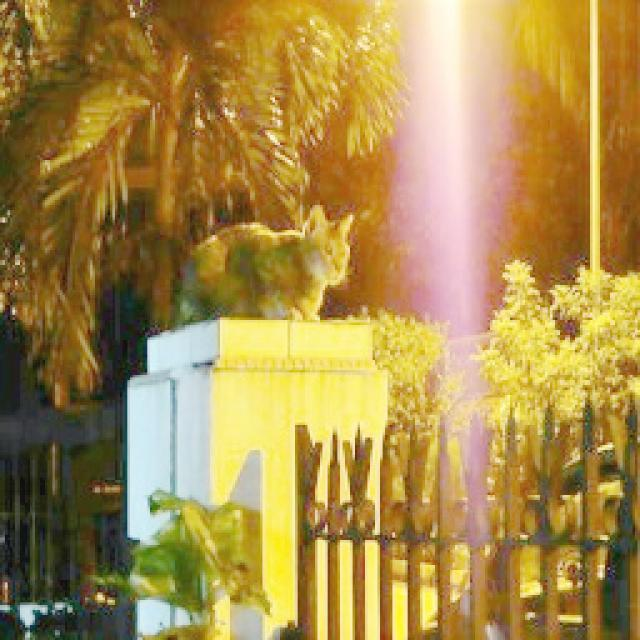cat: (167, 166, 361, 352)
